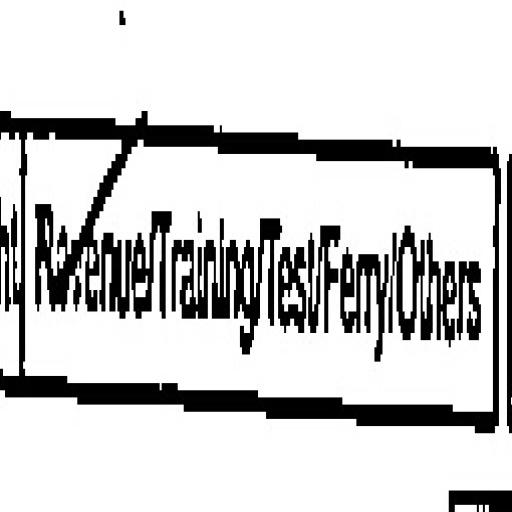check: (20, 34, 146, 461)
